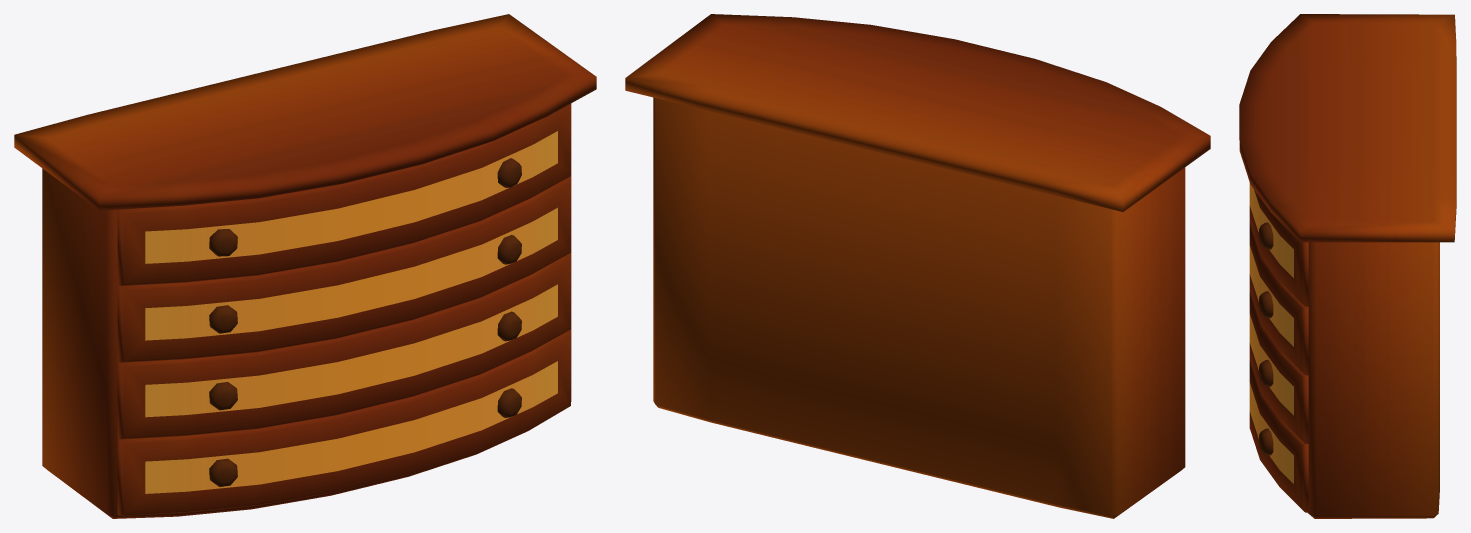
Rendered from SM_Commode_7.fbx.
3 views of the same model, side by side, from view 1: azimuth 30°, elevation 25°; view 2: azimuth 150°, elevation 25°; view 3: azimuth 270°, elevation 25° (orthographic). The views are drawn at different scales.
Parts seen in each view (by area): view 1: SM_Commode_7; view 2: SM_Commode_7; view 3: SM_Commode_7.
Boxes of the visible parts, <box> form: SM_Commode_7: <box>14,14,596,518</box>; SM_Commode_7: <box>625,14,1210,518</box>; SM_Commode_7: <box>1239,14,1456,518</box>.
Size of the model in its own units: 157 by 101 by 66.42.
Materials: 1 (1 with a texture image).
